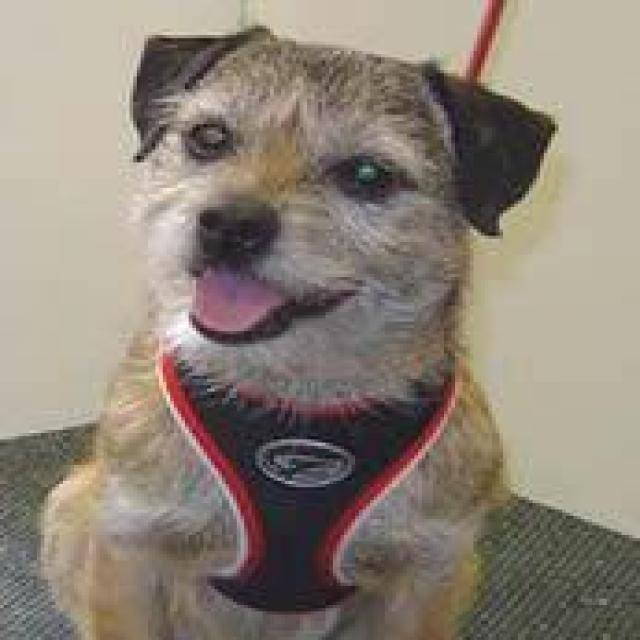happy: (39, 10, 584, 640)
